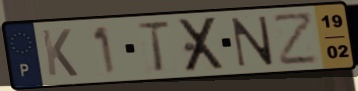1: (89, 24, 117, 77)
K: (39, 27, 81, 78)
N: (229, 14, 276, 69)
T: (133, 19, 173, 75)
X: (177, 14, 228, 74)
Z: (271, 10, 321, 68)
